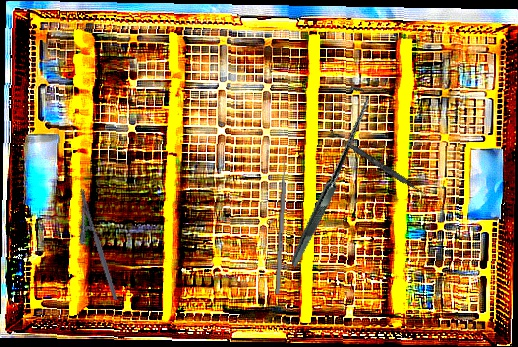Hook Surgical: (233, 82, 421, 268)
Needle Holder: (64, 187, 119, 306)
Pusher: (275, 150, 288, 295)
Spatula Surgical: (326, 129, 430, 198)
